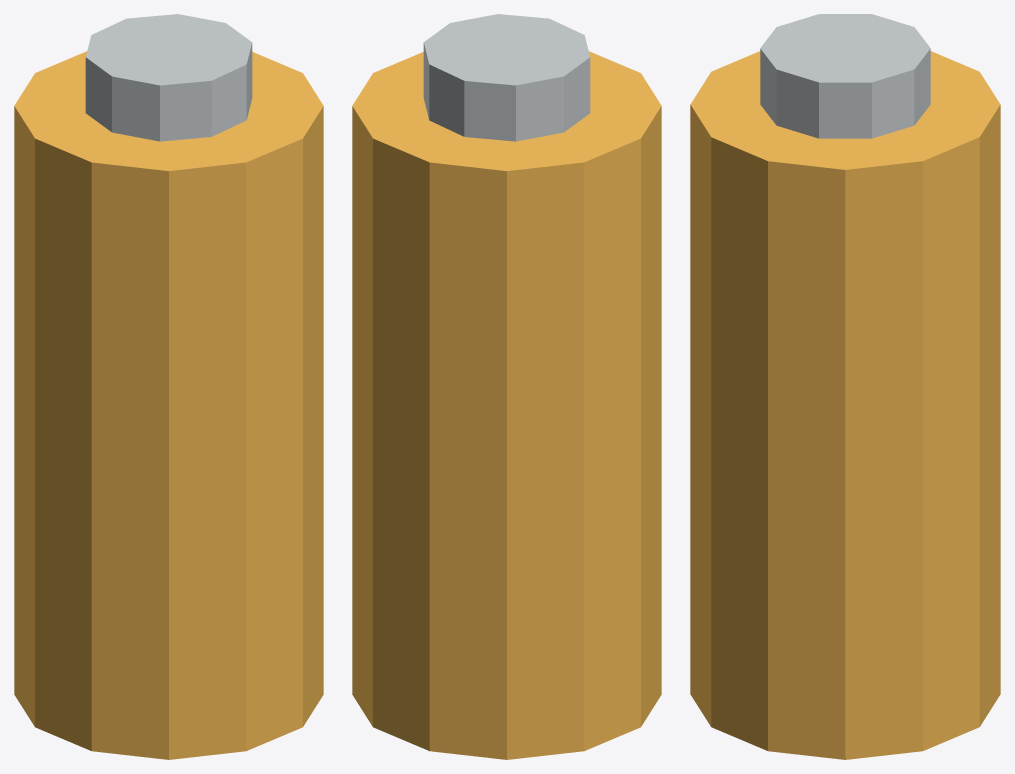
Rendered from product_juice.glb.
The picture shows the model from 3 angles, left to right: view 1: azimuth 30°, elevation 25°; view 2: azimuth 150°, elevation 25°; view 3: azimuth 270°, elevation 25°; orthographic projection.
Parts seen in each view (by area): view 1: body.007, cap.002; view 2: body.007, cap.002; view 3: body.007, cap.002.
Part boxes in pixels (x1=…): body.007: x1=14, y1=51, x2=323, y2=759; cap.002: x1=85, y1=14, x2=252, y2=141; body.007: x1=352, y1=51, x2=661, y2=759; cap.002: x1=423, y1=14, x2=590, y2=141; body.007: x1=690, y1=51, x2=1000, y2=759; cap.002: x1=760, y1=14, x2=930, y2=138.
Bounding box in the file's own units: 0.2 × 0.46 × 0.2.
